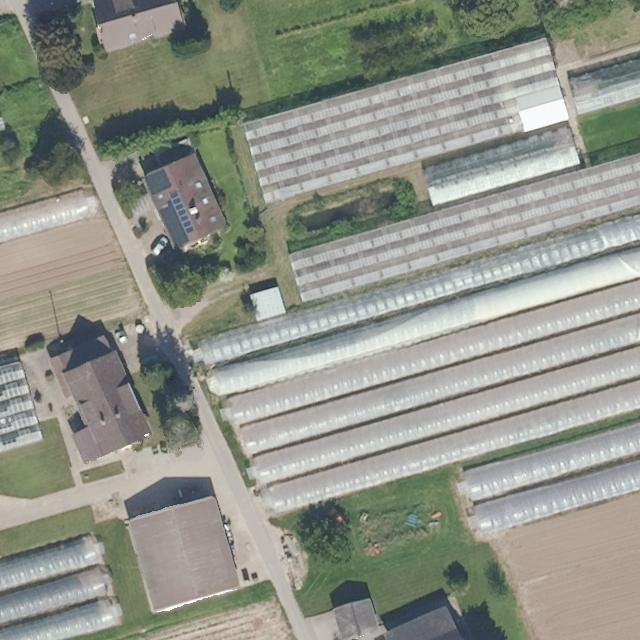PV: (169, 190, 196, 235)
